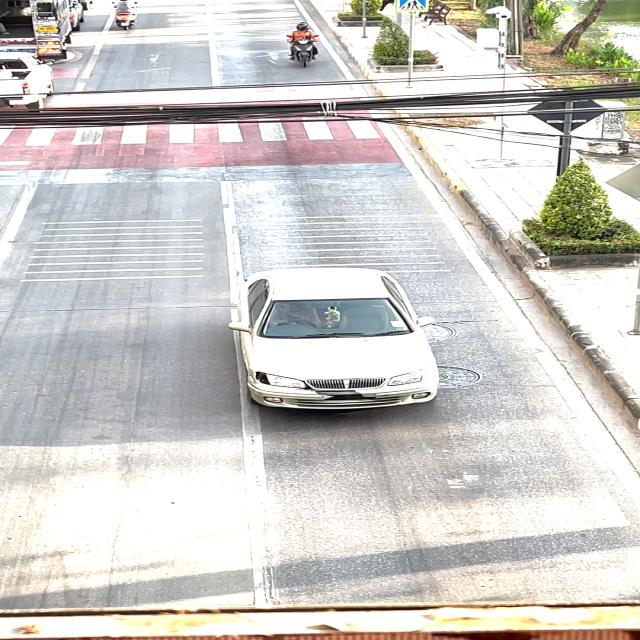car: (205, 245, 466, 421)
